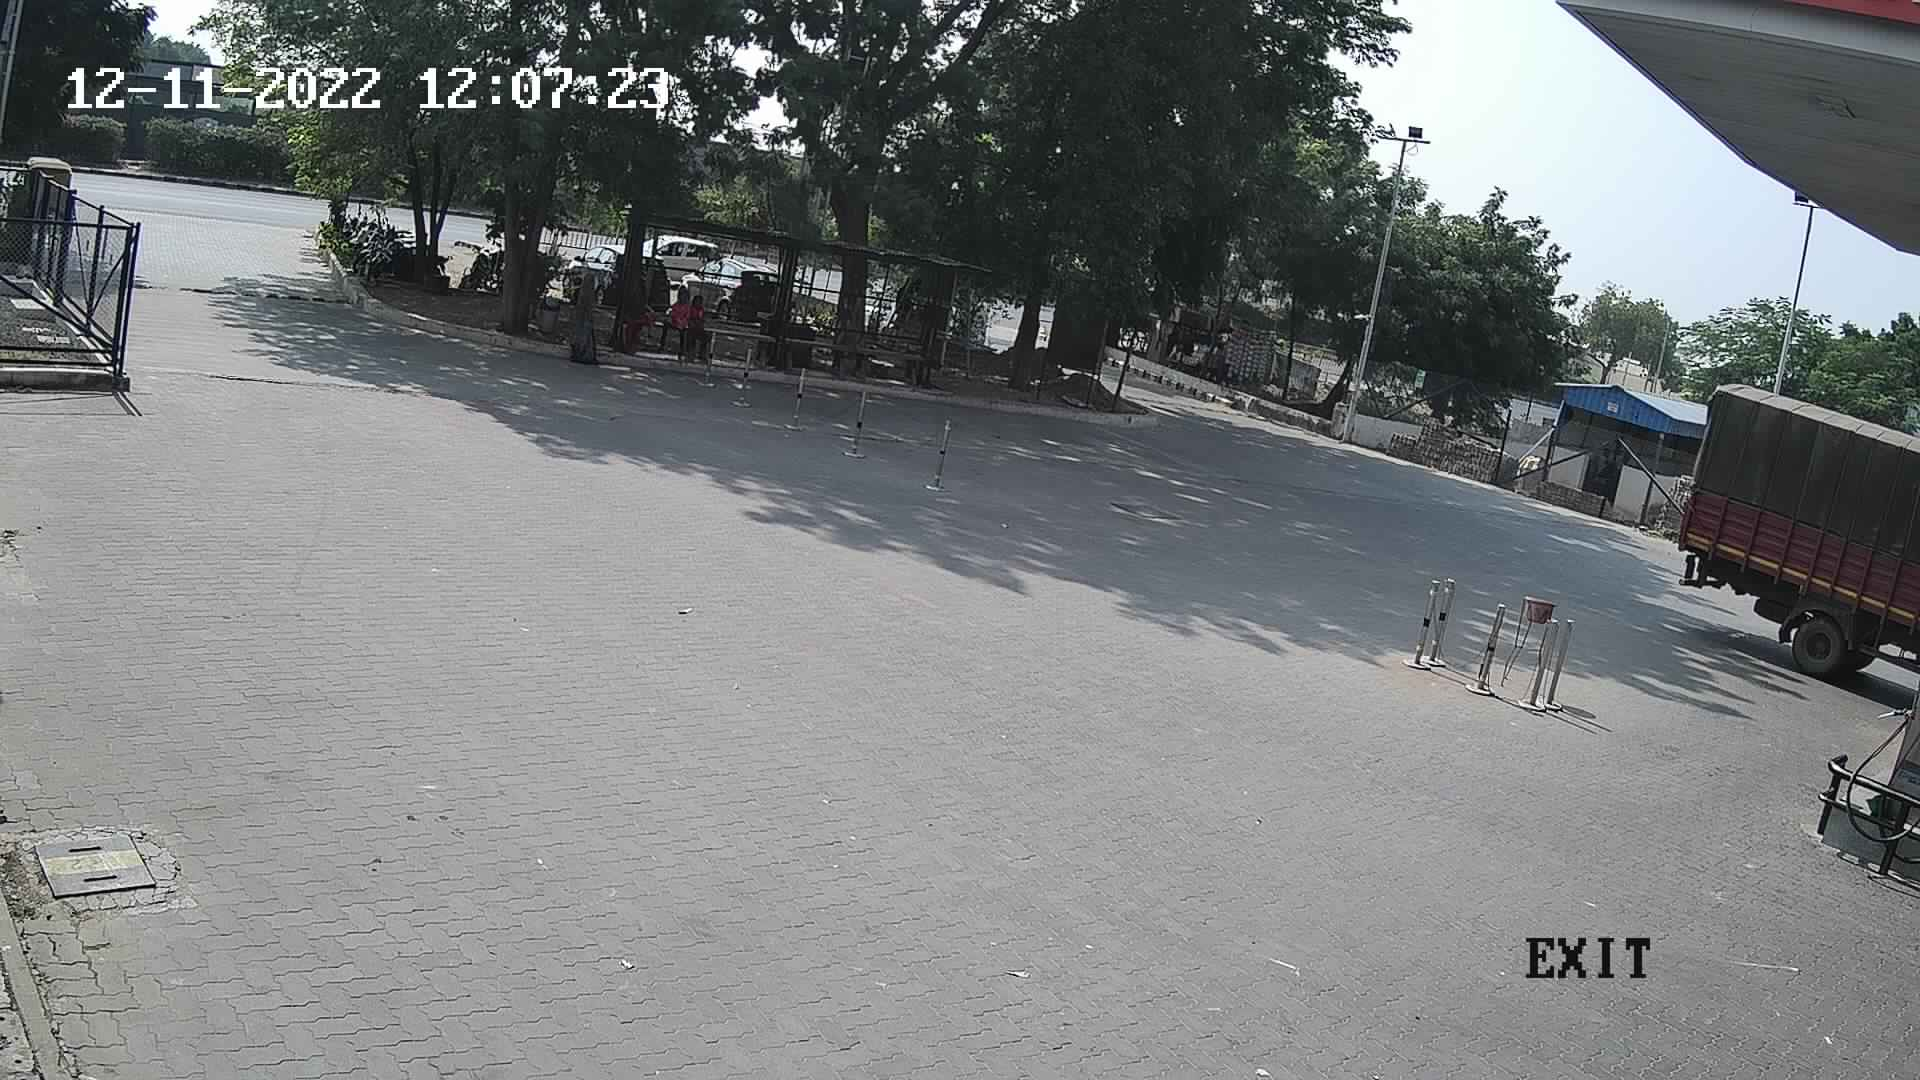Auto: (15, 140, 84, 227)
Car: (673, 248, 785, 323), (554, 227, 629, 313), (640, 227, 727, 297)
HMV: (1662, 361, 1920, 702)
